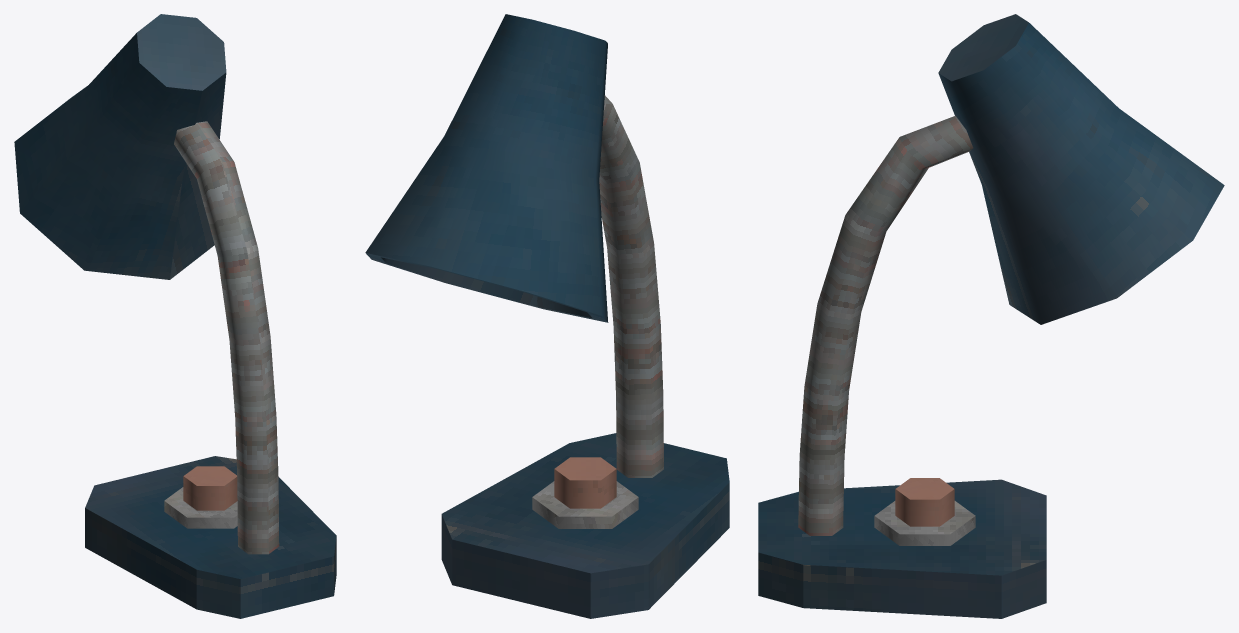
File: DeskLamp.gltf
3 renders of one model, left to right at view 1: azimuth 30°, elevation 25°; view 2: azimuth 150°, elevation 25°; view 3: azimuth 270°, elevation 25°, orthographic. The views are drawn at different scales.
Visible parts, largest first — view 1: DeskLamp, DeskLampButton; view 2: DeskLamp, DeskLampButton; view 3: DeskLamp, DeskLampButton.
Boxes of the visible parts, bbox=[...] form: DeskLamp: bbox=[14, 14, 336, 618]; DeskLampButton: bbox=[183, 466, 237, 510]; DeskLamp: bbox=[365, 14, 729, 618]; DeskLampButton: bbox=[554, 457, 616, 508]; DeskLamp: bbox=[758, 14, 1224, 618]; DeskLampButton: bbox=[895, 478, 954, 526].
Bounding box in the file's own units: 0.2098 × 0.5018 × 0.3876.
1 material, 1 textured.
